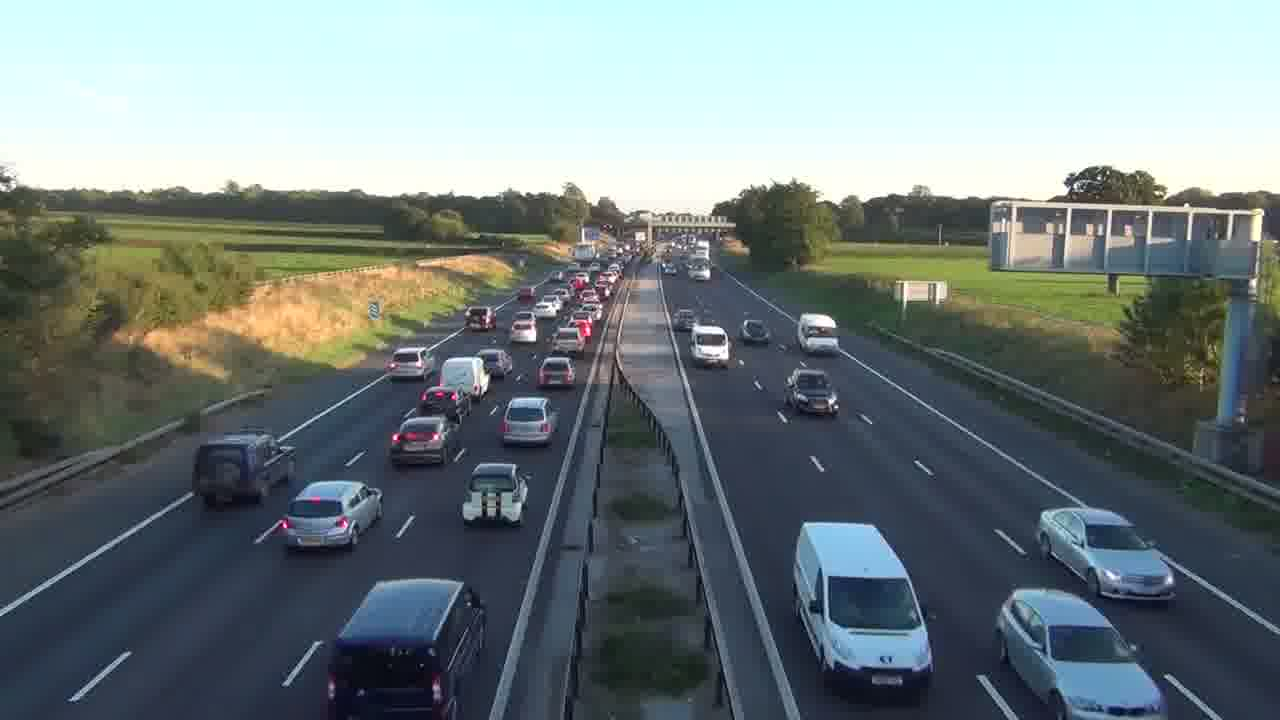car: (994, 586, 1166, 718), (1037, 505, 1177, 604), (282, 479, 384, 551), (461, 461, 532, 527), (387, 415, 461, 468), (498, 395, 560, 449), (784, 367, 840, 416), (536, 356, 576, 390), (739, 317, 771, 344)
truck: (791, 521, 935, 698), (191, 433, 295, 507), (797, 312, 839, 355)
